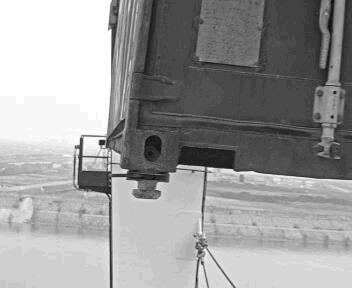twist_lock_1: (121, 164, 177, 204)
